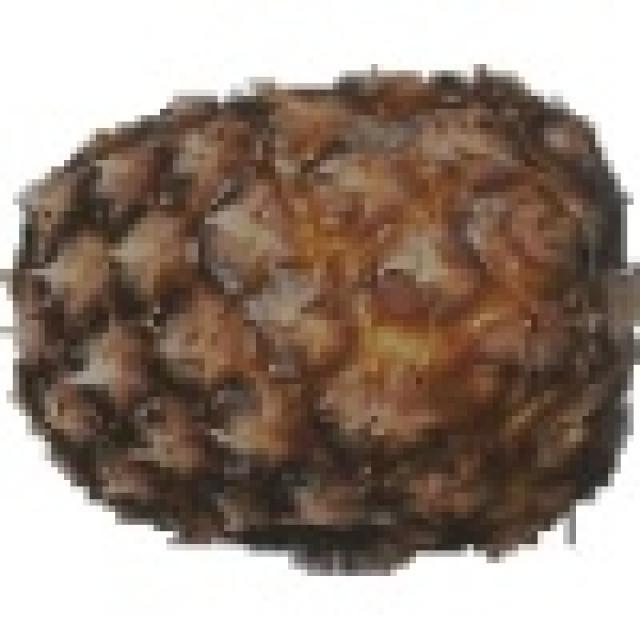pineapple: (13, 64, 614, 550)
